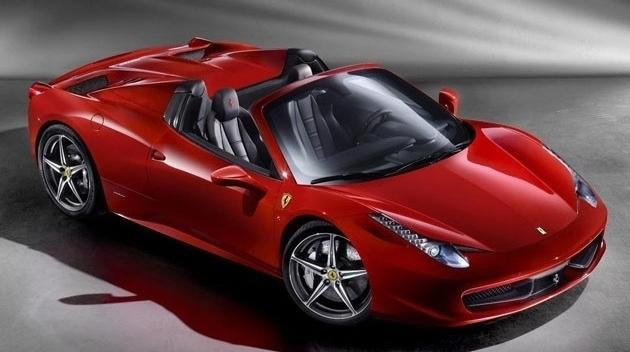car: (8, 27, 629, 345)
